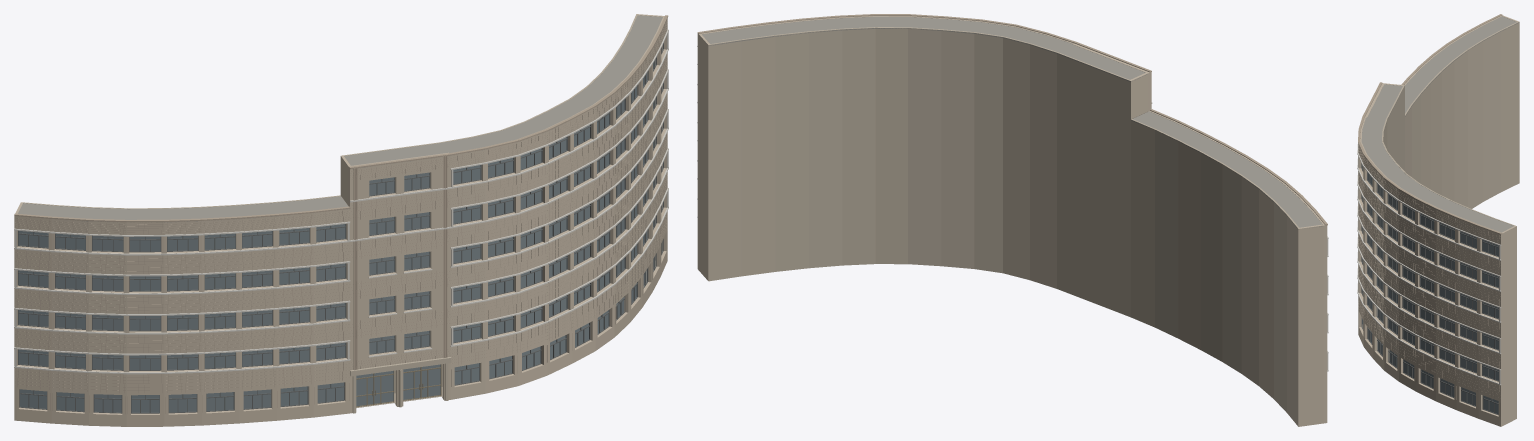
The model's file is huangpu-texaco-building-raw.glb.
3 renders of one model, left to right at view 1: azimuth 30°, elevation 25°; view 2: azimuth 150°, elevation 25°; view 3: azimuth 270°, elevation 25°, orthographic. The views are drawn at different scales.
Visible parts, largest first — view 1: 德士古大楼（延安东路110号弧形街墙及入口）; view 2: 德士古大楼（延安东路110号弧形街墙及入口）; view 3: 德士古大楼（延安东路110号弧形街墙及入口）.
Part boxes in pixels (left/top/right/bottom): 德士古大楼（延安东路110号弧形街墙及入口）: left=14, top=14, right=668, bottom=426; 德士古大楼（延安东路110号弧形街墙及入口）: left=697, top=14, right=1328, bottom=426; 德士古大楼（延安东路110号弧形街墙及入口）: left=1357, top=14, right=1519, bottom=426.
Size of the model in its own units: 63.4 by 22.74 by 17.29.
